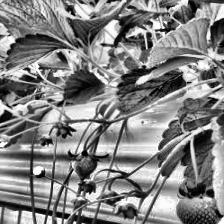Powdery Mildew Fruit: (175, 194, 222, 224), (70, 151, 96, 179)
